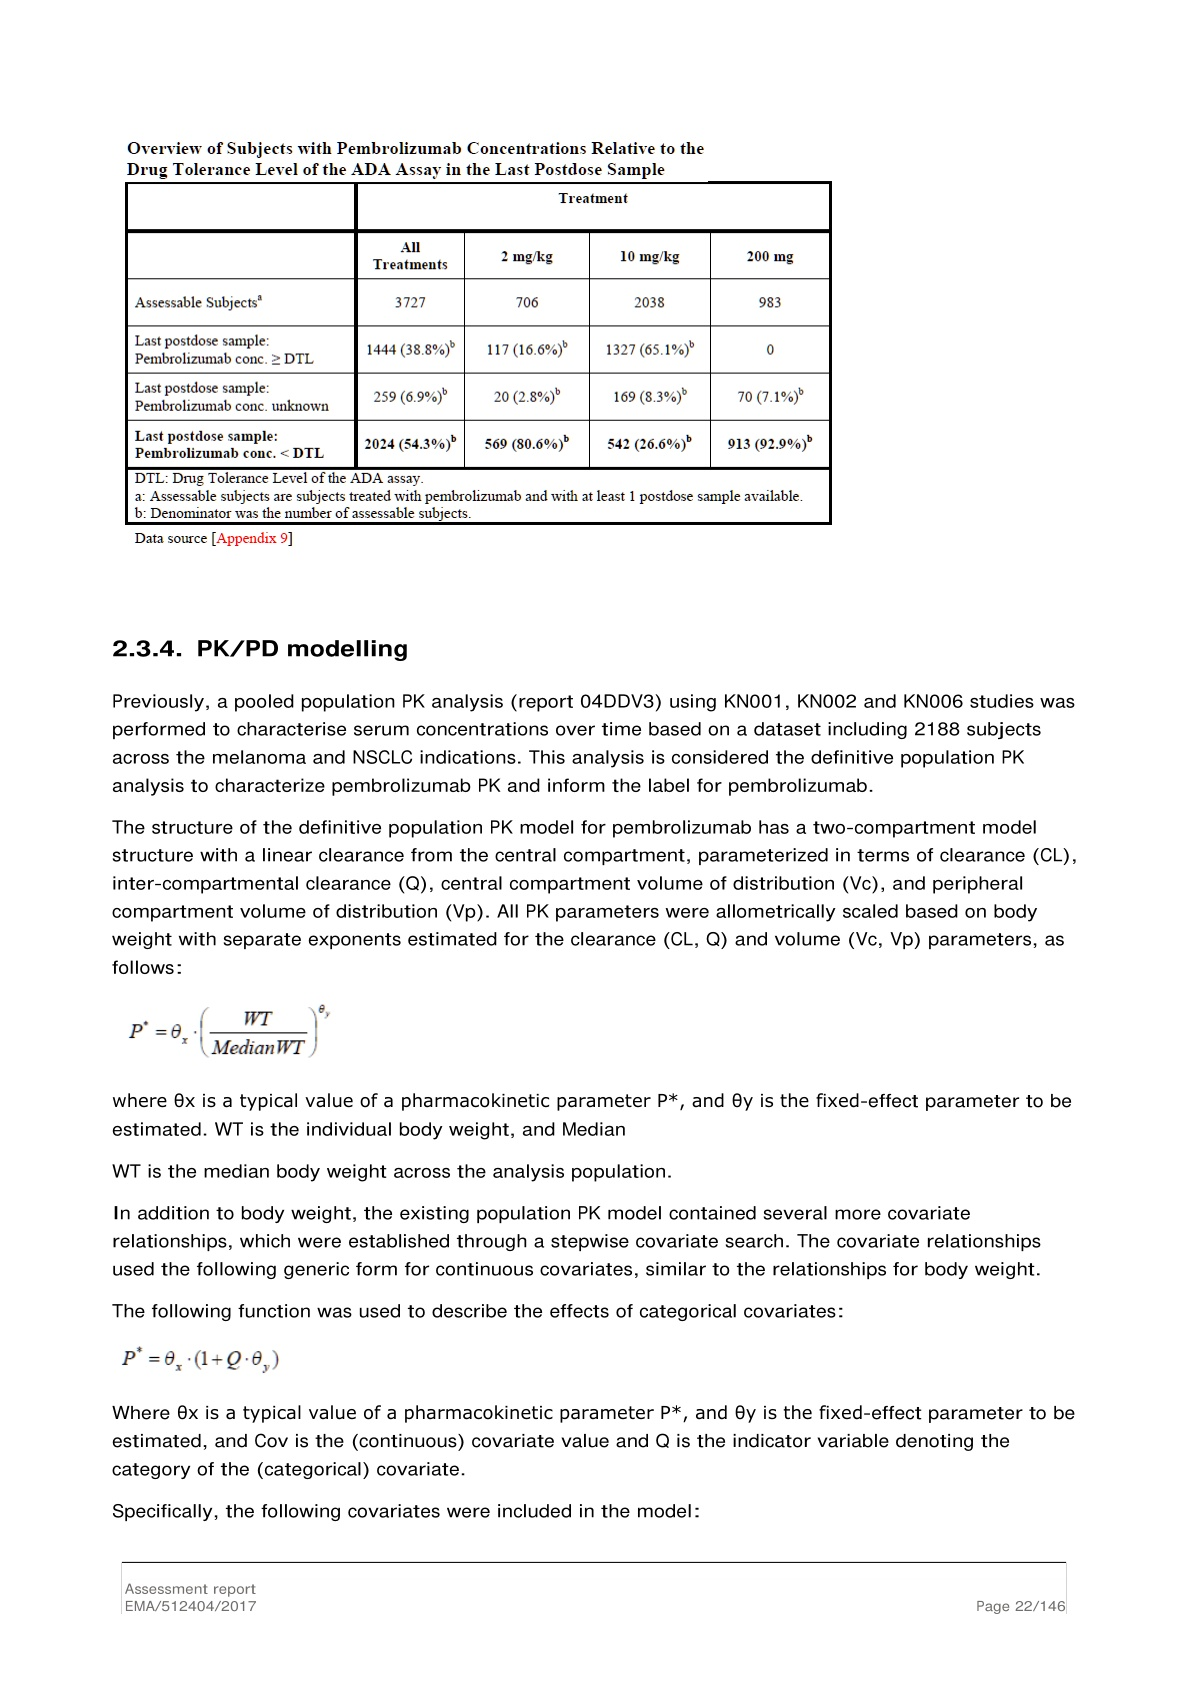merged_cells: (124, 182, 833, 525)
